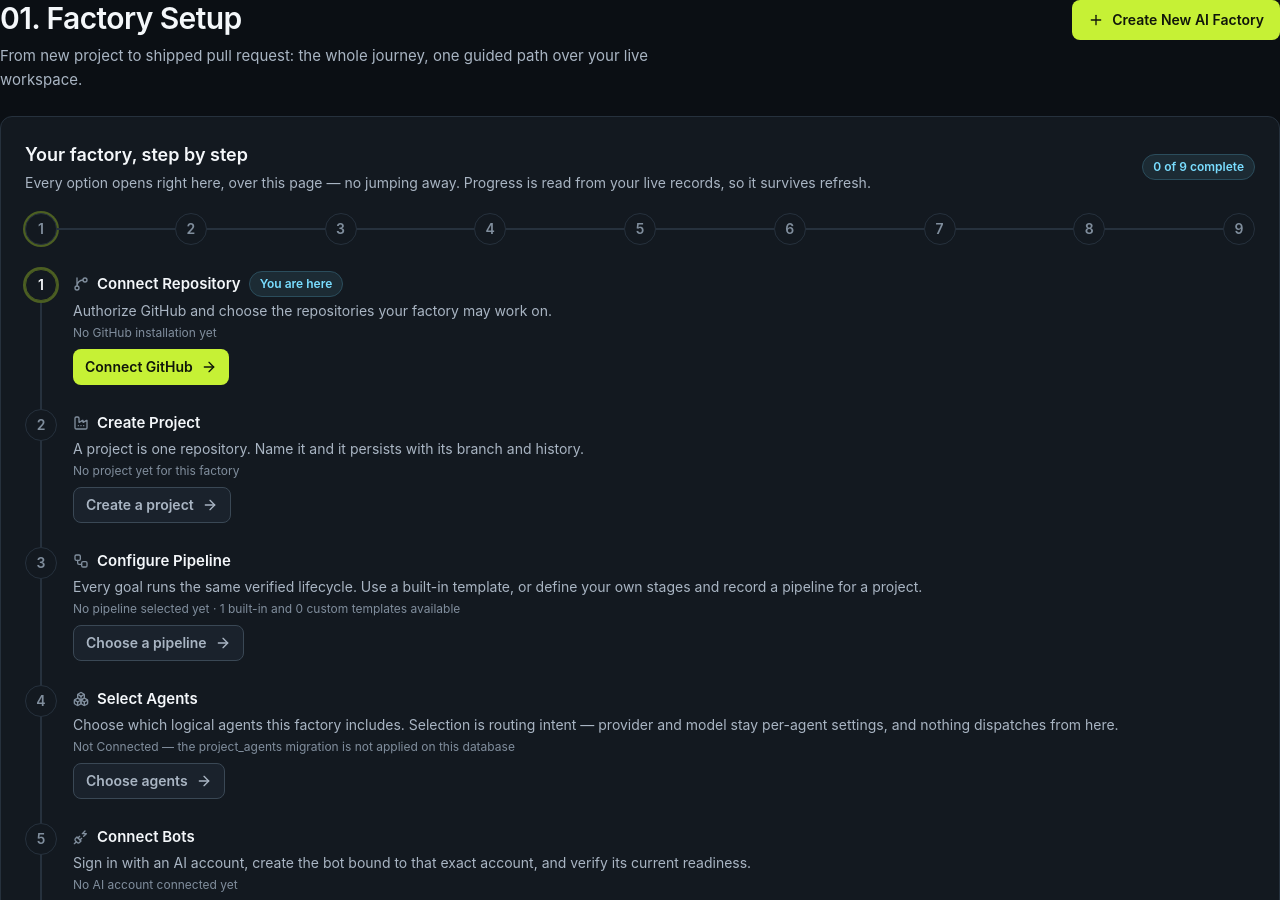
AiFactoryConsole › opens the real embedded control in an overlay and closes back to the page
This screenshot has width=1280, height=900.
Click the button "Create a project". click: [152, 505]
box: [73, 487, 231, 523]
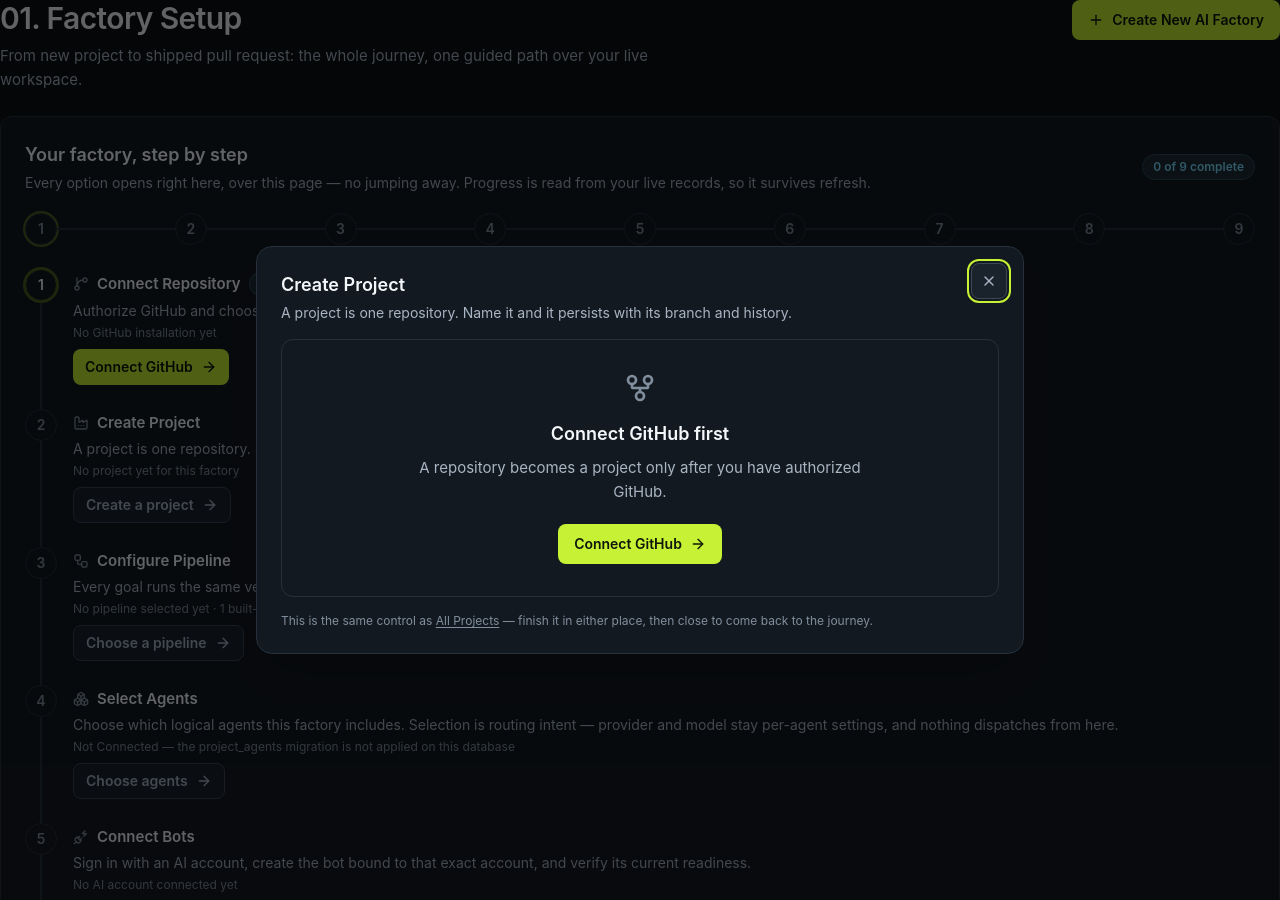
expect the heading "Connect GitHub first" is shown: met, box [551, 423, 729, 444]
Click the button named "Close". click: [989, 281]
box: [971, 263, 1007, 299]
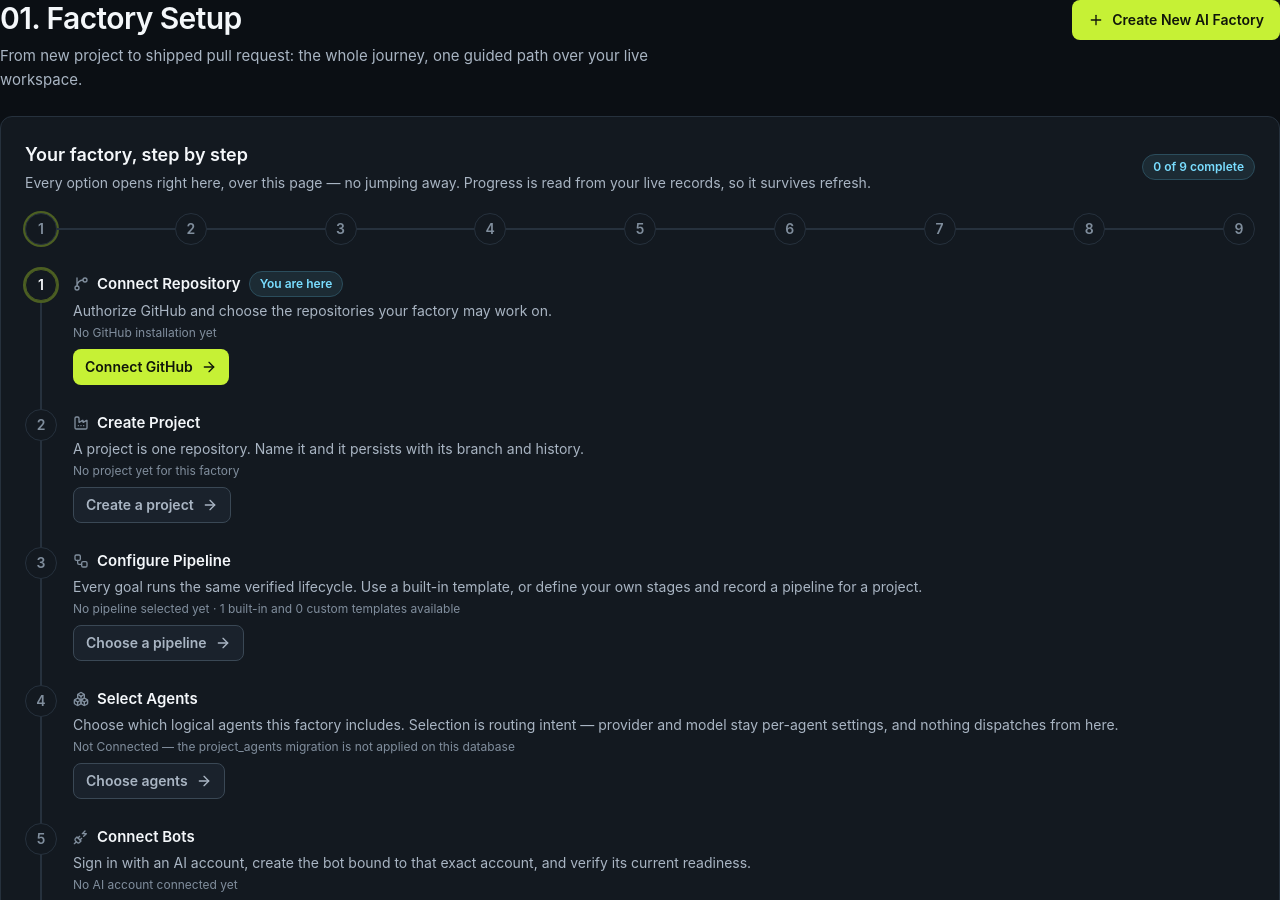
expect the dialog is gone: met
